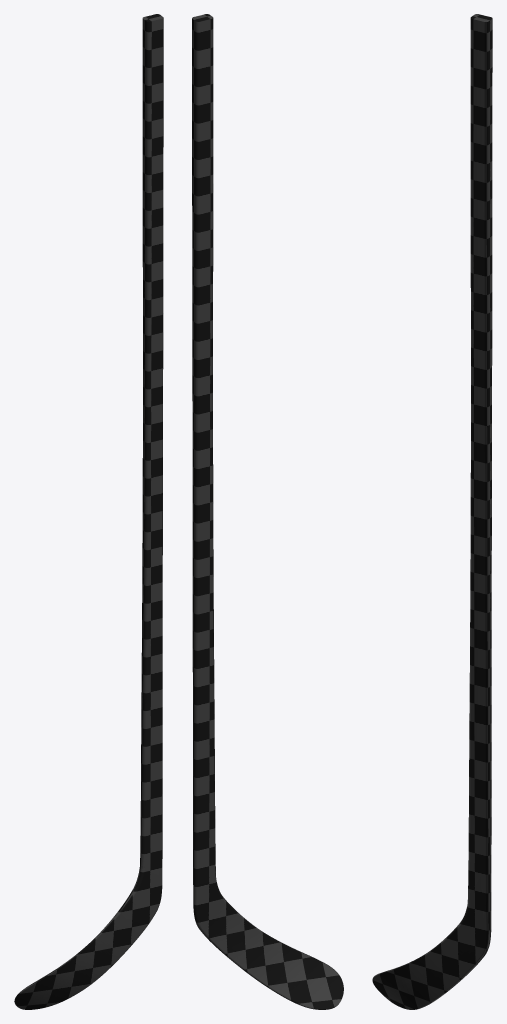
The model's file is P70-SBT.glb.
3 views of the same model, side by side, from view 1: azimuth 30°, elevation 25°; view 2: azimuth 210°, elevation 25°; view 3: azimuth 330°, elevation 25° (orthographic). The views are drawn at different scales.
Visible parts, largest first — view 1: geometry_0; view 2: geometry_0; view 3: geometry_0.
Boxes of the visible parts, left/top/right/bottom form: geometry_0: left=14, top=14, right=163, bottom=1009; geometry_0: left=192, top=14, right=343, bottom=1009; geometry_0: left=372, top=14, right=492, bottom=1009.
Size of the model in its own units: 227 by 1650 by 78.08.
1 material, 1 textured.
